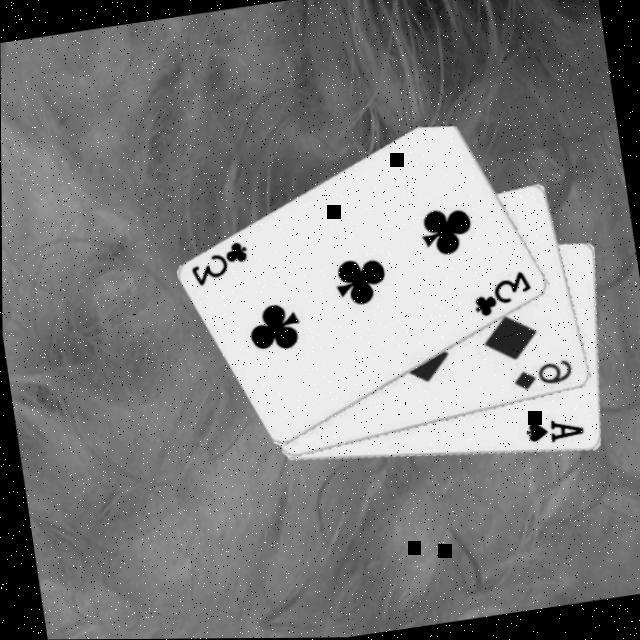3C: (465, 268, 535, 322), (183, 239, 253, 291)
6D: (507, 358, 575, 397)
AS: (520, 415, 586, 452)
